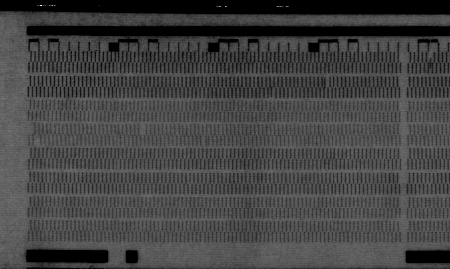Broken hole: (27, 123, 44, 147), (137, 123, 151, 137)
Oblique printing: (425, 51, 437, 67), (320, 76, 332, 90), (198, 135, 209, 148), (267, 87, 277, 99)
